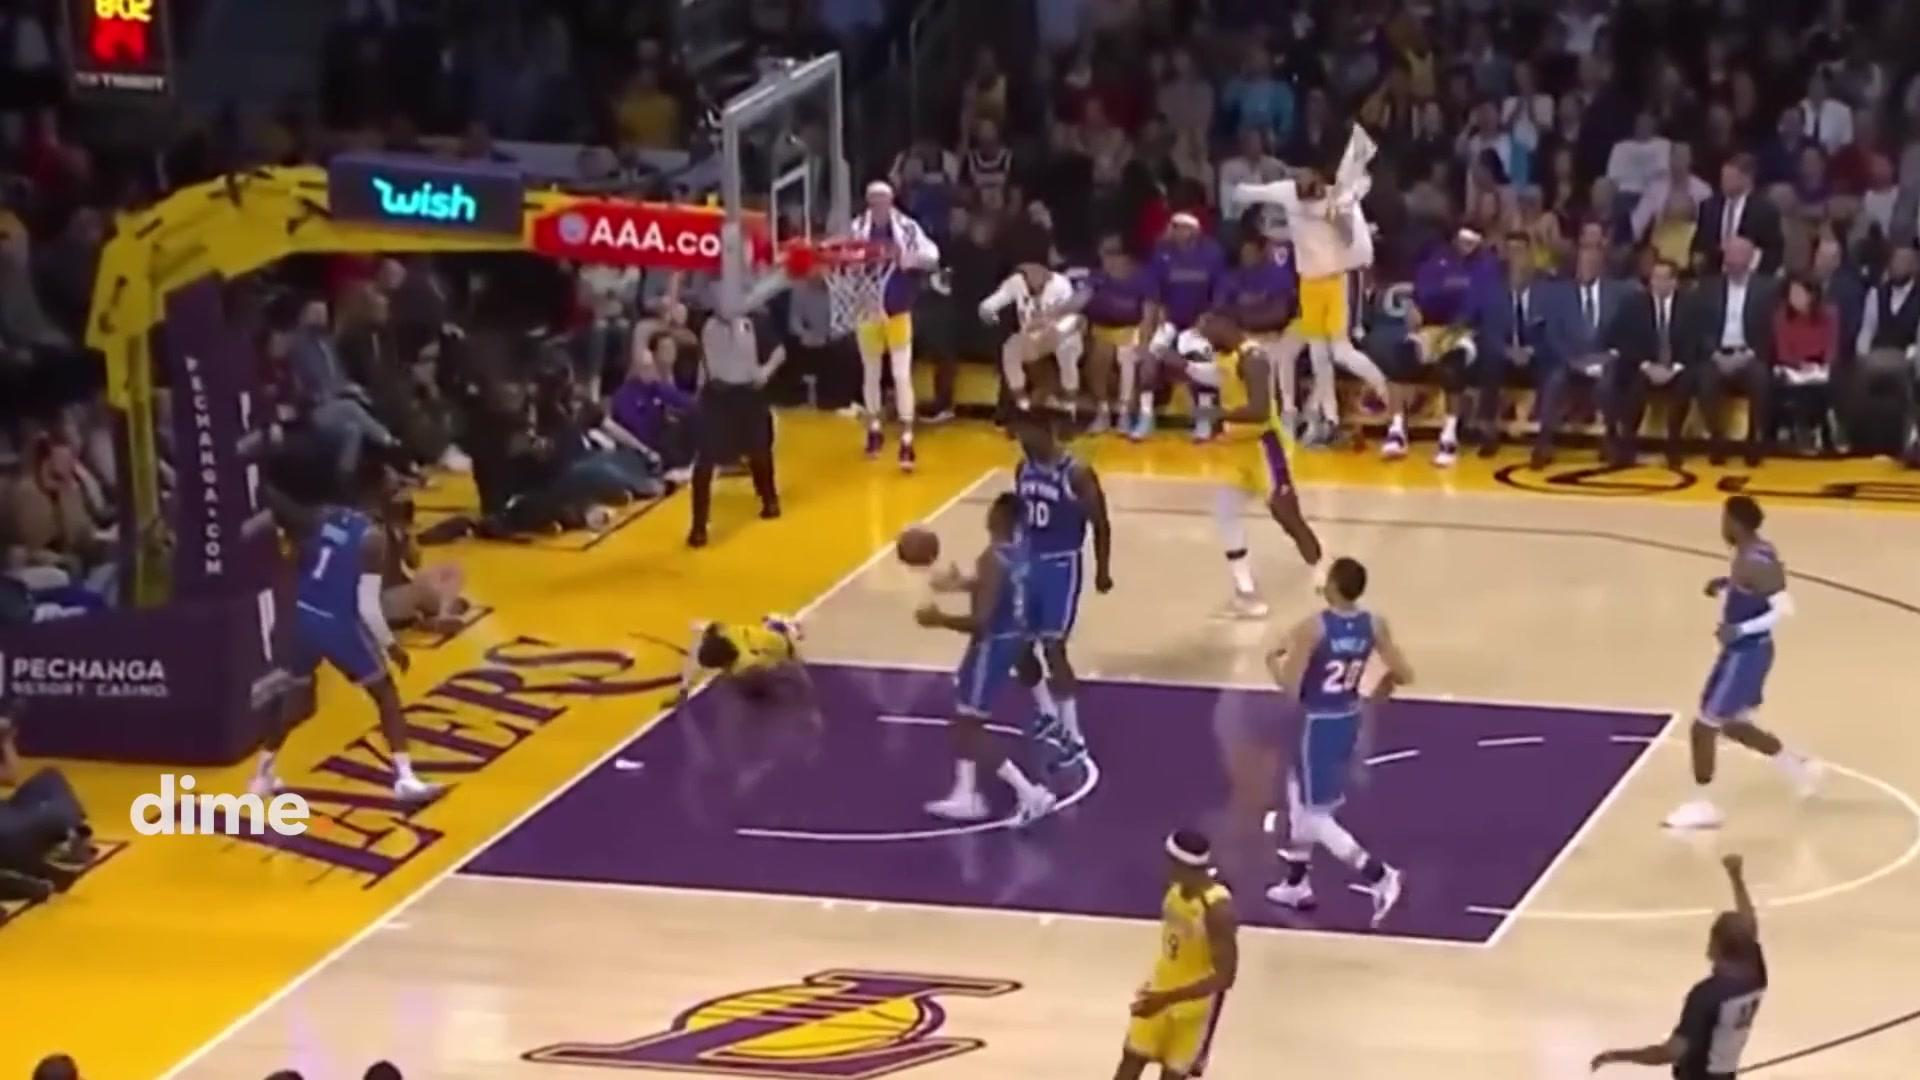no_foul: (1116, 549, 1439, 1068)
